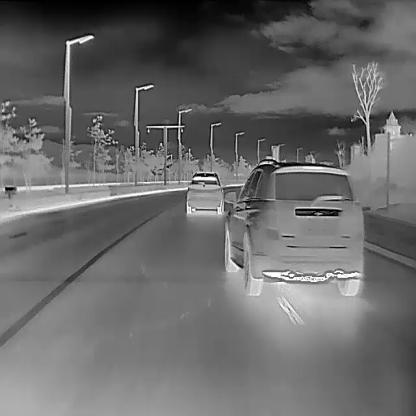car: (223, 158, 363, 295), (185, 171, 224, 213)
